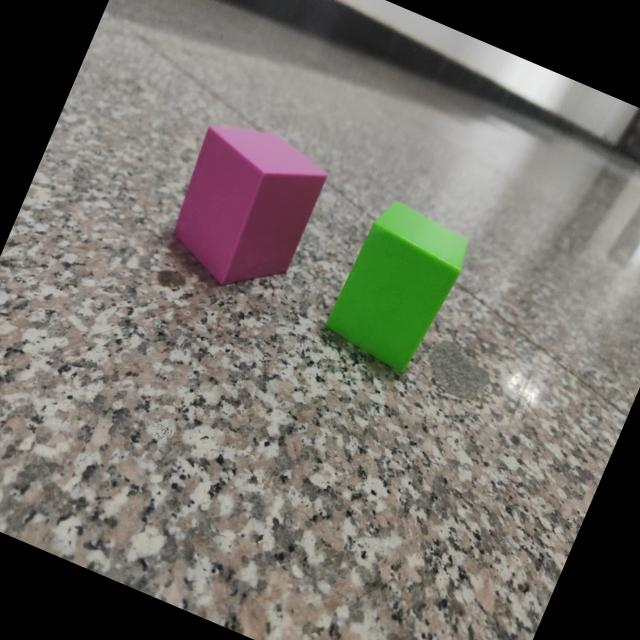green: (323, 203, 467, 378)
pink: (172, 126, 327, 285)
